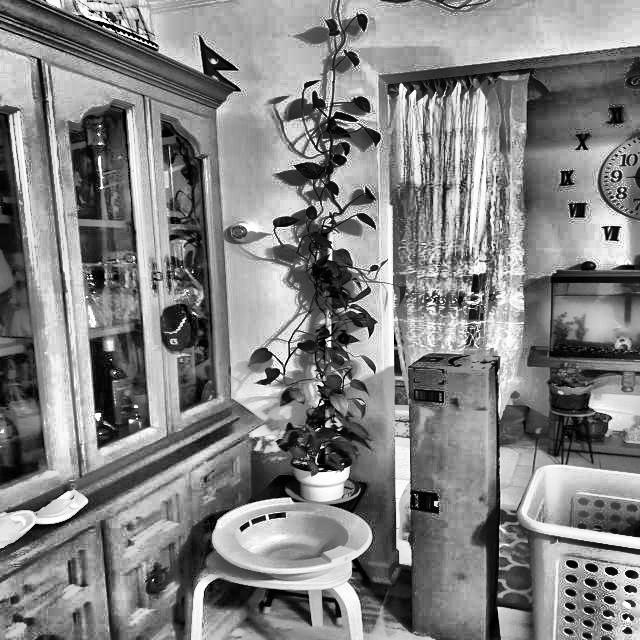plants: (264, 154, 379, 466)
